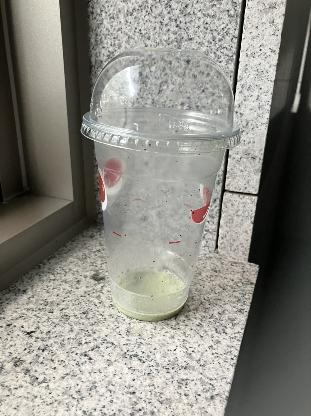Plastic Cup: (80, 47, 242, 322), (82, 47, 242, 154)
